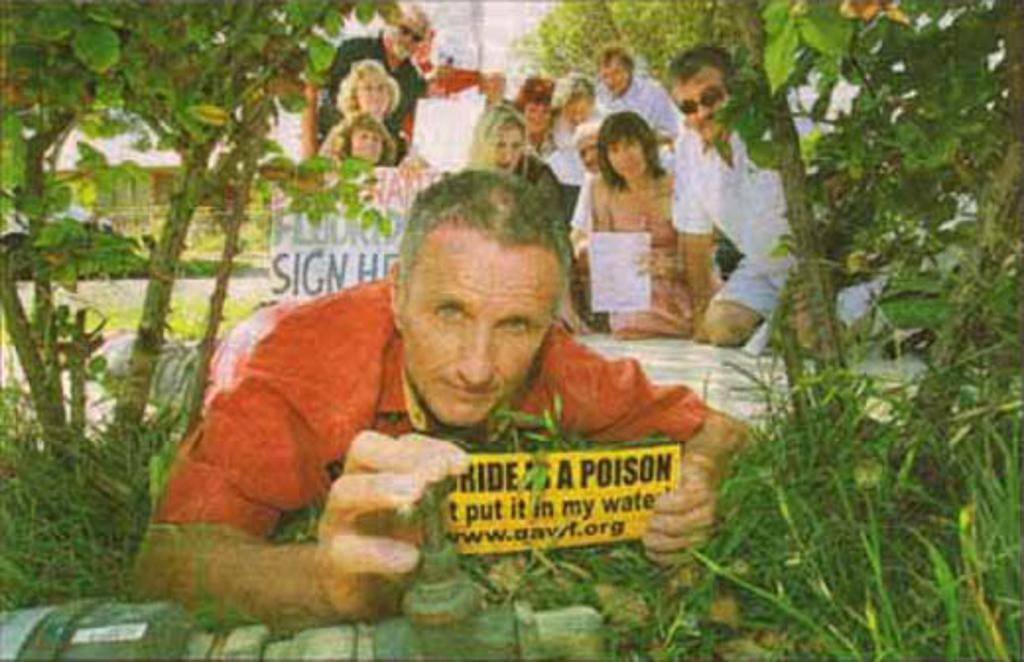face: (408, 243, 561, 429), (674, 77, 735, 145), (391, 10, 427, 58), (609, 142, 648, 179), (488, 132, 522, 174), (360, 76, 389, 114), (353, 130, 382, 166), (579, 142, 608, 175), (523, 102, 553, 133), (602, 62, 628, 93), (563, 95, 589, 123)
